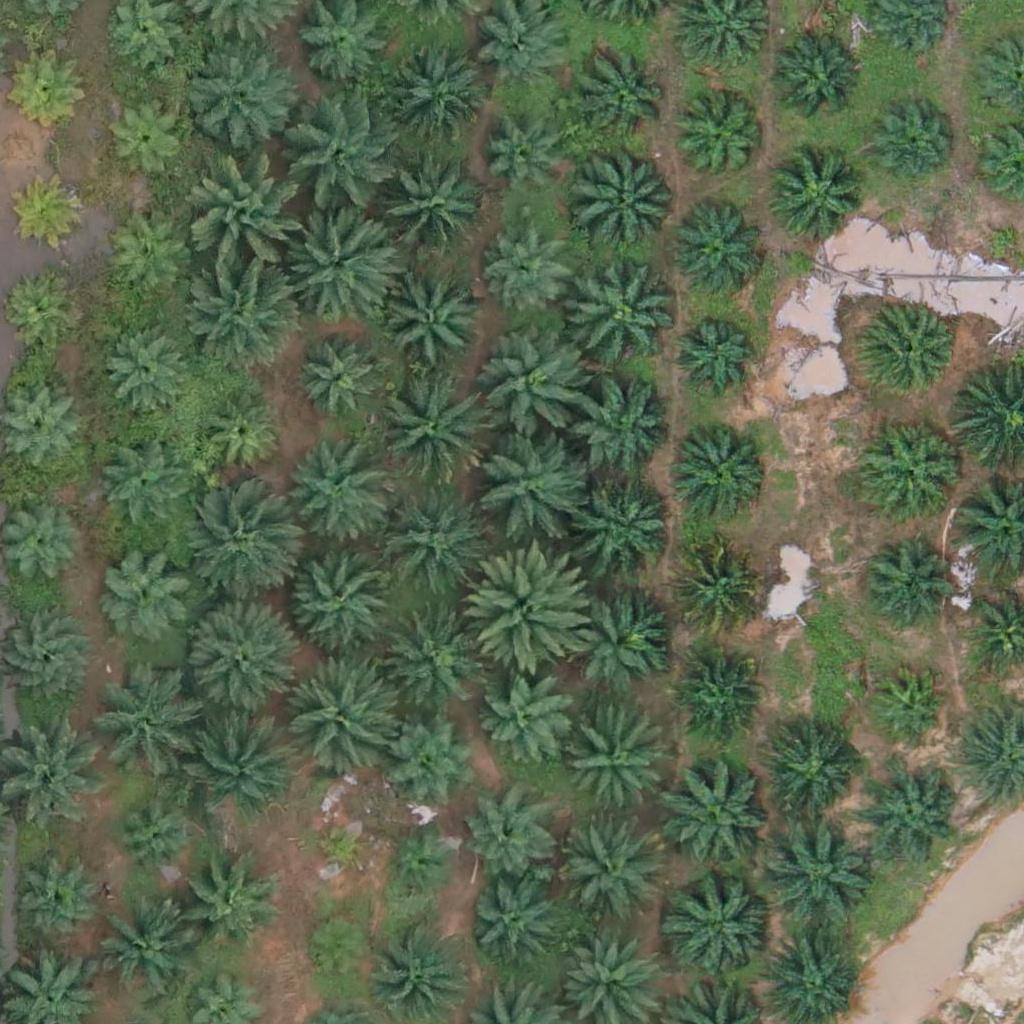Kelapa_Sawit: (469, 547, 594, 673), (471, 425, 584, 539), (372, 154, 485, 268), (760, 813, 873, 926), (661, 757, 774, 870), (665, 868, 778, 981), (373, 373, 486, 486), (377, 485, 490, 598), (284, 540, 397, 653), (181, 601, 294, 714), (565, 256, 678, 369), (289, 100, 402, 213), (188, 258, 301, 371), (478, 331, 591, 444), (181, 703, 293, 817), (571, 141, 683, 255), (194, 162, 306, 276), (277, 441, 389, 554), (282, 658, 394, 771), (179, 492, 291, 605), (284, 205, 396, 318), (181, 36, 293, 149), (671, 418, 771, 519), (578, 477, 678, 578), (564, 714, 664, 815), (559, 826, 659, 927), (381, 606, 481, 707), (383, 707, 483, 808), (175, 855, 275, 956), (89, 904, 189, 1005), (89, 676, 189, 777), (765, 32, 865, 133), (766, 148, 866, 249), (384, 270, 484, 371), (374, 921, 474, 1022), (862, 419, 962, 519), (865, 764, 965, 864), (573, 384, 673, 484), (563, 584, 663, 684), (96, 542, 196, 642), (860, 304, 960, 404), (668, 204, 768, 304), (577, 48, 677, 148), (385, 48, 485, 148), (859, 536, 947, 624), (770, 731, 858, 819), (670, 542, 758, 630), (463, 794, 551, 882), (196, 391, 284, 479), (110, 793, 198, 881), (677, 98, 765, 186), (669, 311, 757, 399), (296, 336, 384, 424), (99, 92, 187, 180), (104, 215, 192, 303), (466, 881, 553, 970), (96, 441, 183, 530), (673, 650, 760, 738), (481, 674, 568, 762), (15, 862, 102, 950), (868, 100, 955, 188), (482, 125, 569, 213), (487, 230, 574, 318), (103, 324, 190, 412), (382, 827, 457, 903), (871, 667, 946, 743), (301, 914, 376, 990), (13, 174, 88, 250), (13, 52, 88, 127), (308, 815, 370, 878)
